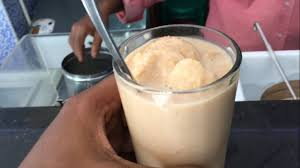jigirthanda: (121, 44, 239, 157)
